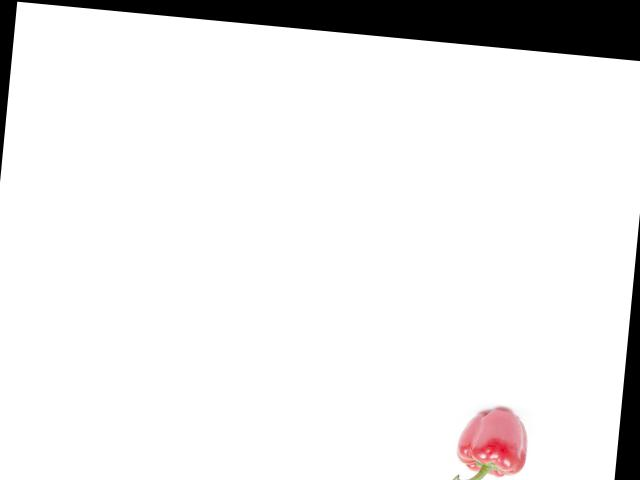bell_pepper: (448, 402, 536, 480)
